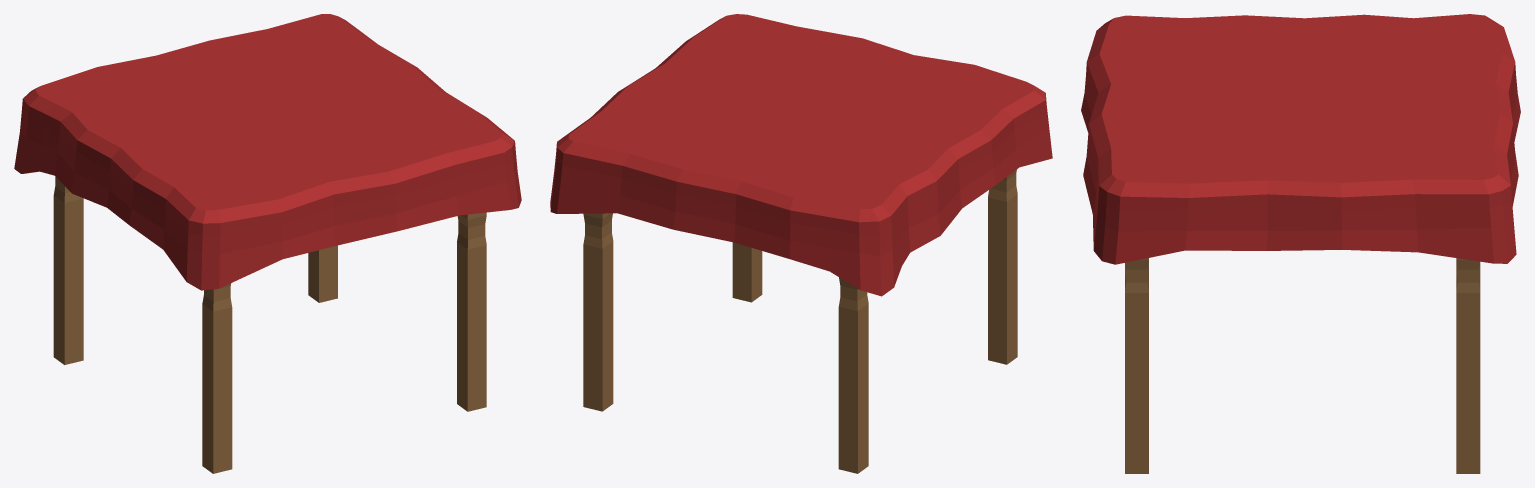
Rendered from R_Table_Small_Cloth.fbx.
3 views of the same model, side by side, from view 1: azimuth 30°, elevation 25°; view 2: azimuth 150°, elevation 25°; view 3: azimuth 270°, elevation 25° (orthographic). The views are drawn at different scales.
Parts seen in each view (by area): view 1: R_Table_Small_Cloth; view 2: R_Table_Small_Cloth; view 3: R_Table_Small_Cloth.
Boxes of the visible parts, x1=… form: R_Table_Small_Cloth: x1=14, y1=14, x2=521, y2=473; R_Table_Small_Cloth: x1=550, y1=14, x2=1052, y2=473; R_Table_Small_Cloth: x1=1081, y1=14, x2=1520, y2=473.
Size of the model in its own units: 904 by 904 by 683.
